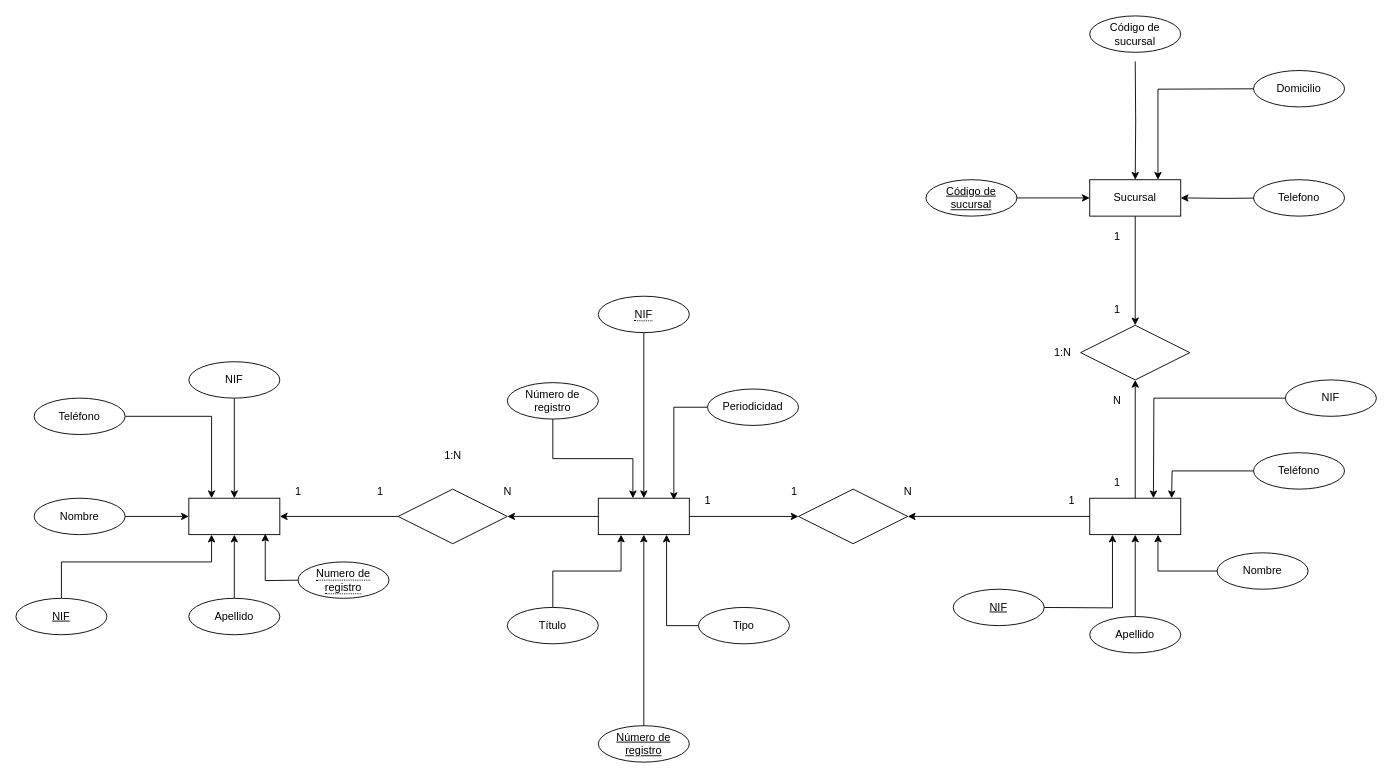
This 1392x778 diagram has some shape labels left out. Each missing label, with the box of its shape:
Empleados: (1089, 497, 1181, 535)
Escriben: (397, 488, 507, 544)
Periodistas: (188, 497, 280, 535)
Publican: (798, 488, 908, 544)
Revistas: (597, 497, 689, 535)
Tiene: (1080, 324, 1190, 380)
